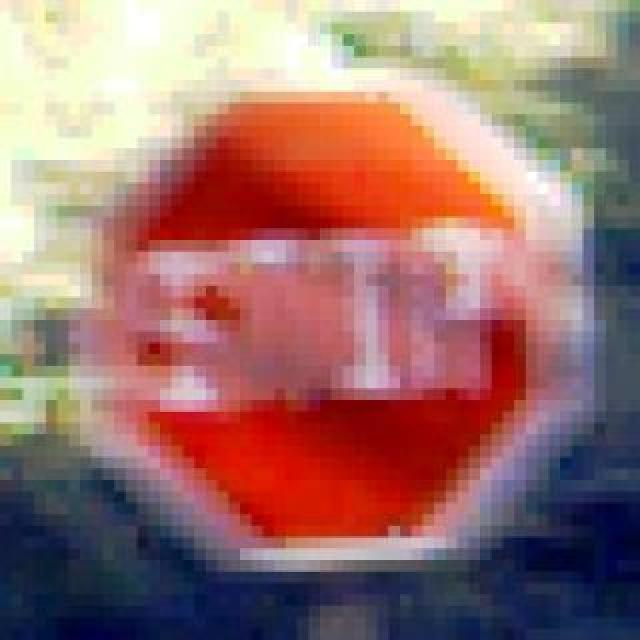stop: (68, 56, 572, 560)
